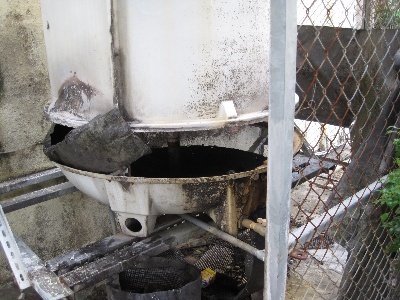water_tower: (39, 1, 271, 235)
